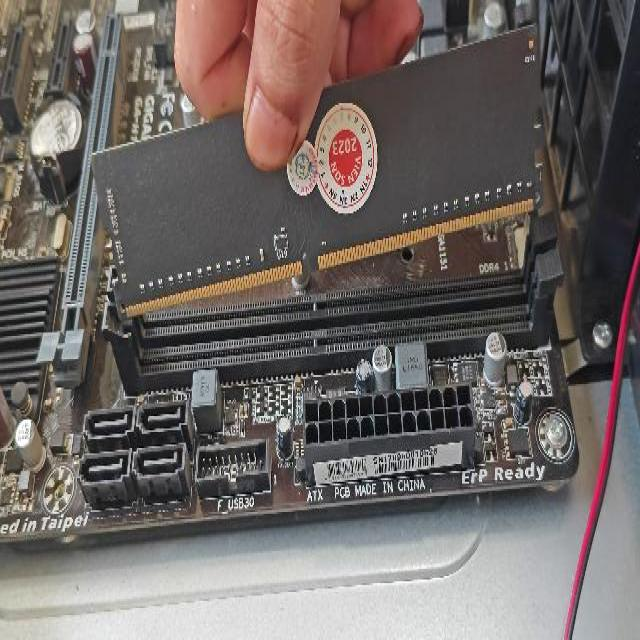Mainboard: (0, 0, 581, 542)
RAM: (90, 19, 544, 323)
